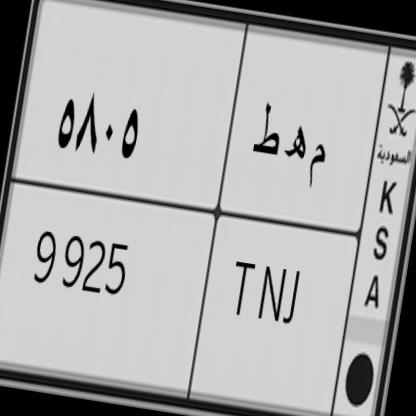english: (0, 164, 370, 416)
